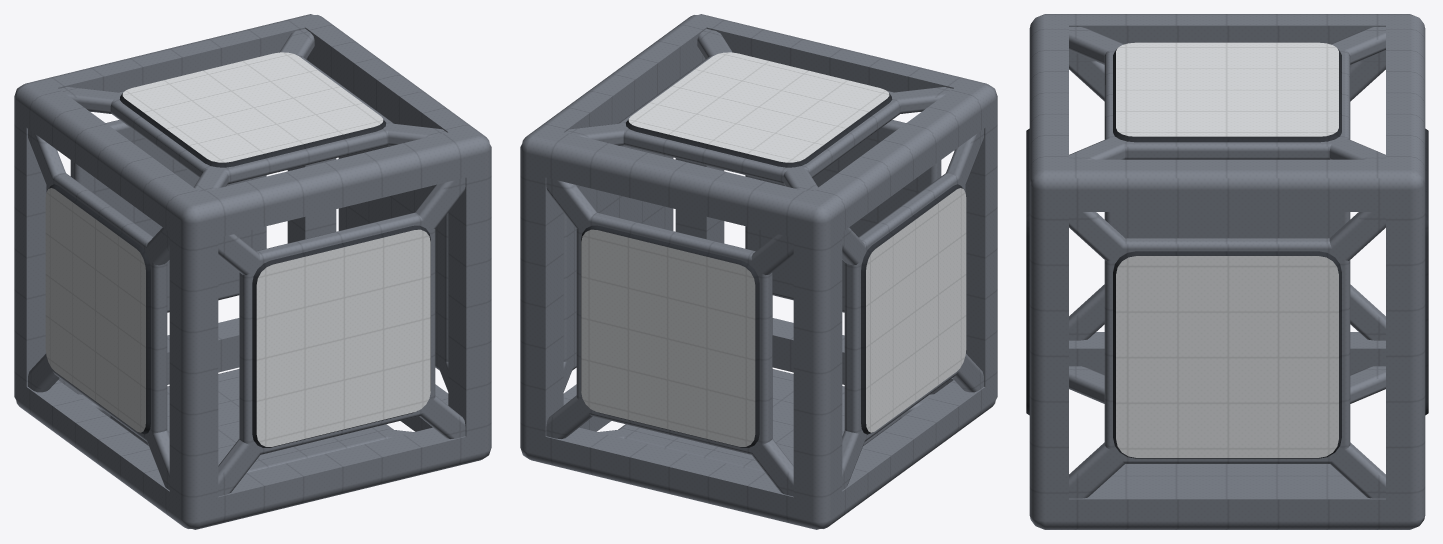
File: R4B_TrussCube.glb
The picture shows the model from 3 angles, left to right: view 1: azimuth 30°, elevation 25°; view 2: azimuth 150°, elevation 25°; view 3: azimuth 270°, elevation 25°; orthographic projection. The views are drawn at different scales.
Parts seen in each view (by area): view 1: R4B_TrussCube; view 2: R4B_TrussCube; view 3: R4B_TrussCube.
Part boxes in pixels (x1,y1,x2,y2): R4B_TrussCube: (14,14,491,529); R4B_TrussCube: (520,14,997,529); R4B_TrussCube: (1026,14,1428,529).
Size of the model in its own units: 0.52 by 0.52 by 0.52.
3 materials, 3 textured.
